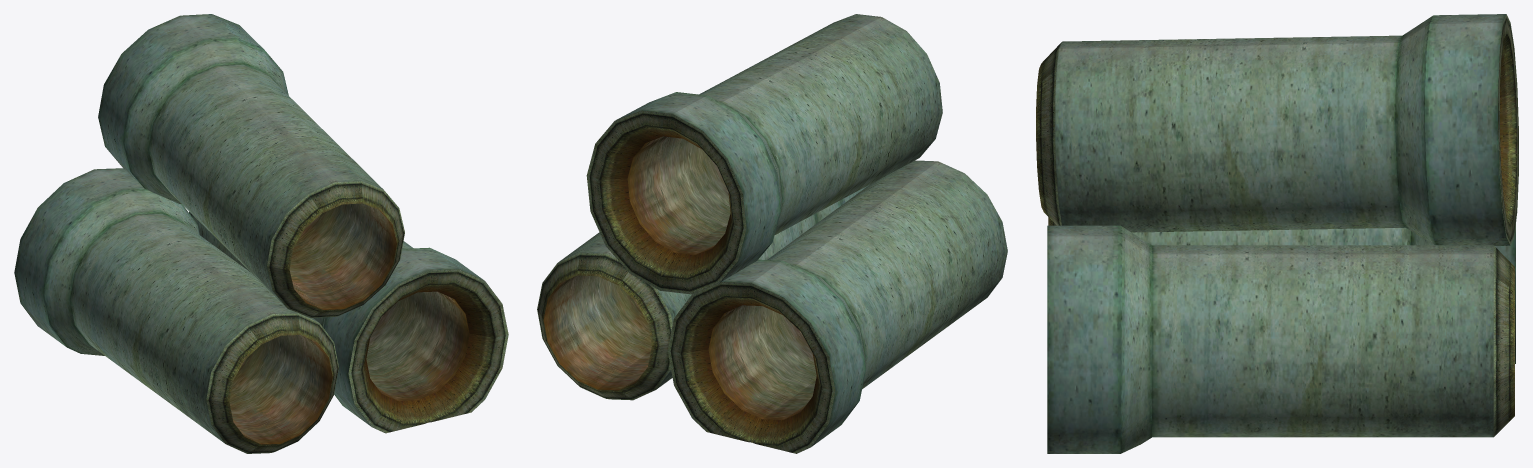
Rendered from pipes_concrete_small_stack.fbx.
3 views of the same model, side by side, from view 1: azimuth 30°, elevation 25°; view 2: azimuth 150°, elevation 25°; view 3: azimuth 270°, elevation 25° (orthographic). The views are drawn at different scales.
Parts seen in each view (by area): view 1: mesh_0; view 2: mesh_0; view 3: mesh_0.
Part boxes in pixels (x1,y1,x2,y2): mesh_0: [14, 14, 508, 453]; mesh_0: [537, 14, 1007, 453]; mesh_0: [1036, 14, 1518, 453].
Bounding box in the file's own units: 232 × 209 × 252.
Materials: 1 (1 with a texture image).
